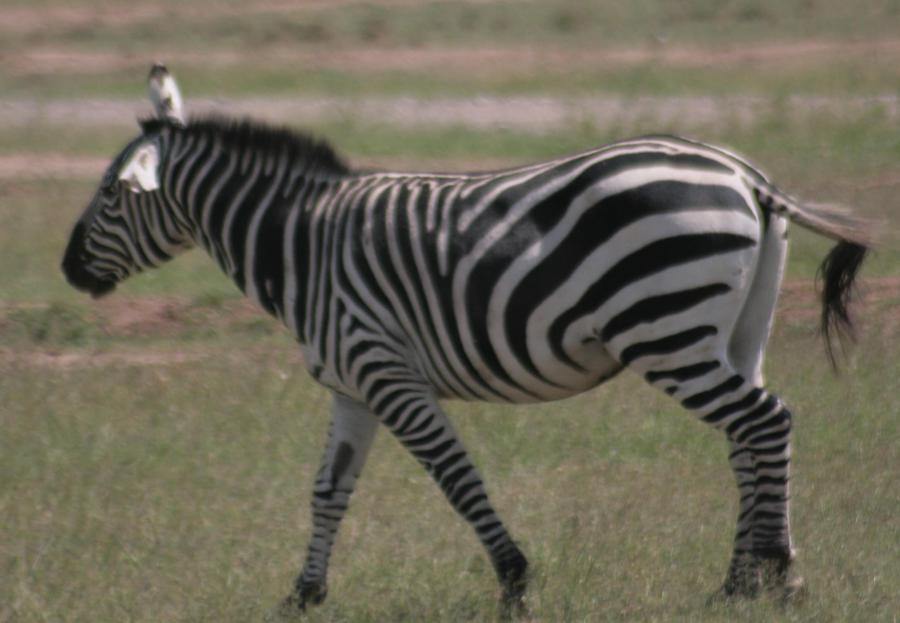zebra_plains: (276, 143, 746, 401)
